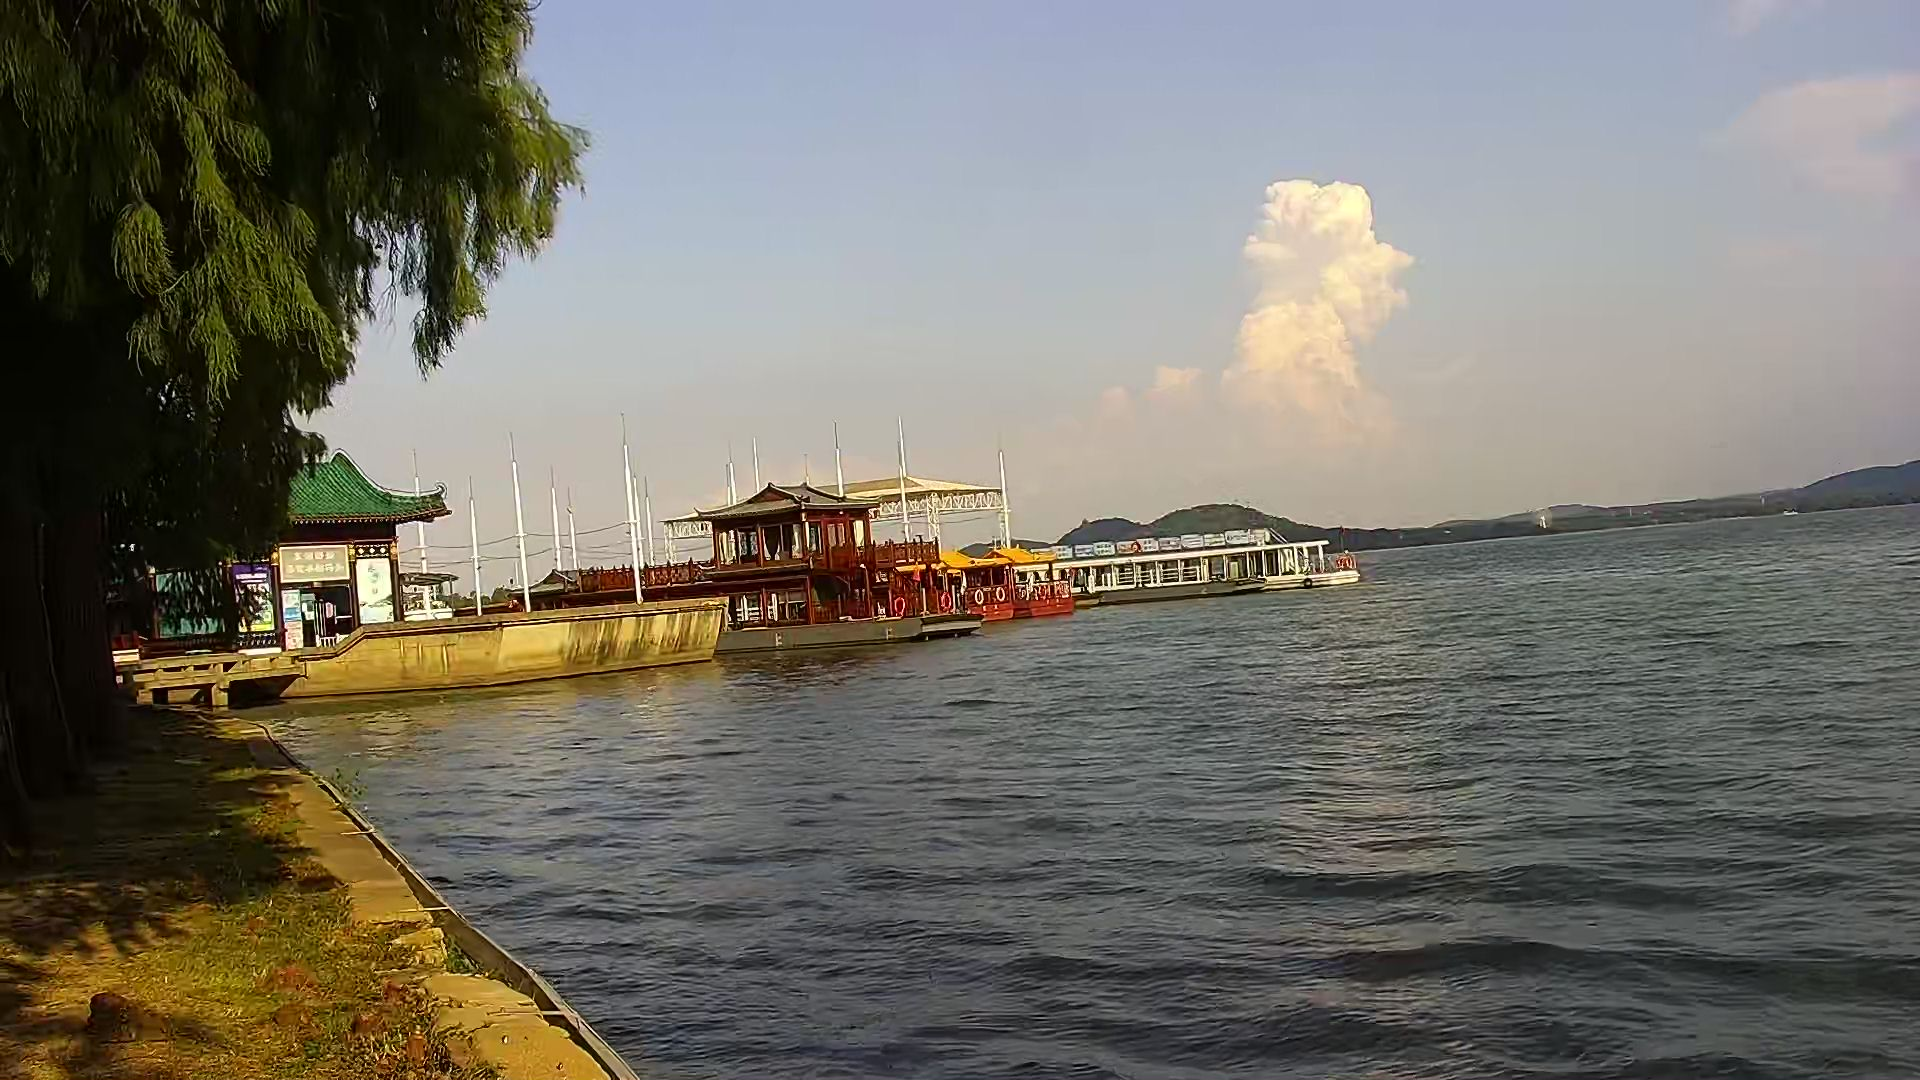boat: (1073, 526, 1369, 587), (1006, 542, 1073, 618), (949, 547, 1015, 620)
harbor: (251, 612, 728, 679)
ship: (713, 476, 971, 657)
